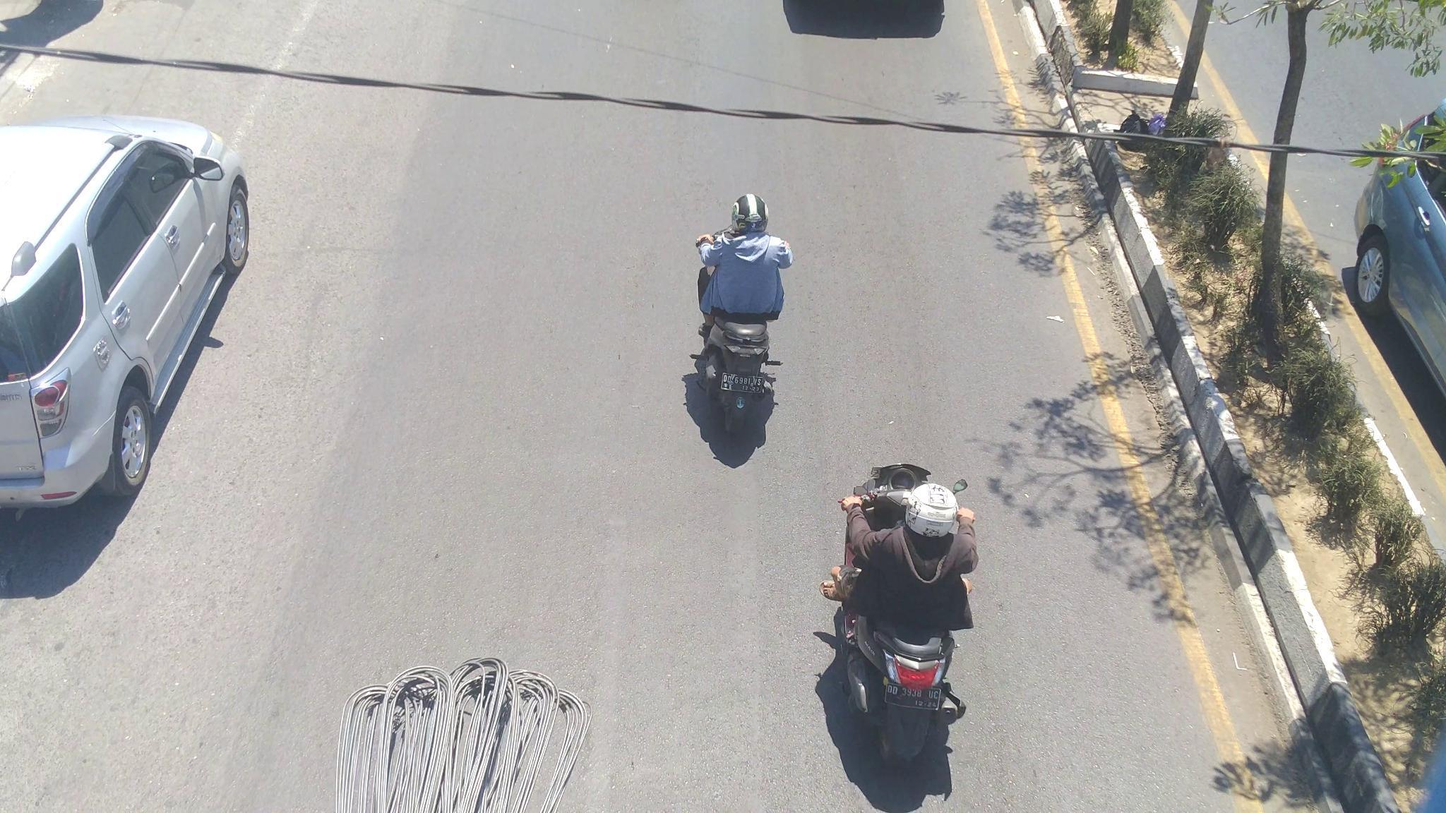Helmet: (902, 478, 965, 543), (727, 190, 774, 240)
bike: (816, 456, 982, 770), (691, 211, 791, 436)
number-plate: (887, 680, 943, 710), (718, 371, 767, 398)
rider: (828, 480, 981, 631), (699, 190, 794, 332)
